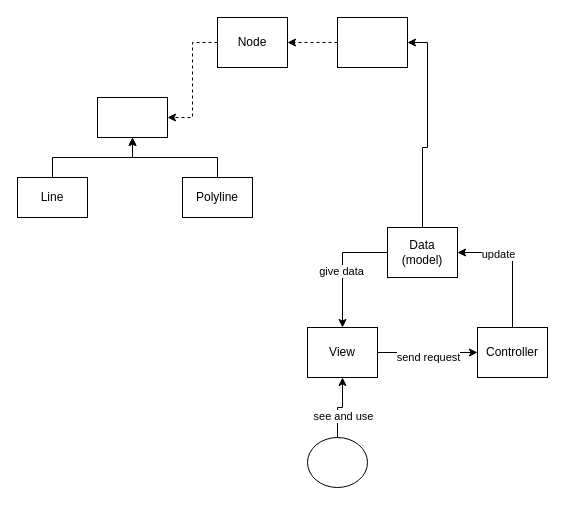
This 565x505 diagram has some shape labels left out. The shapes that lost their labels are listed below. From the top down, each one's centre as x and y in pixels, then its label:
point (372, 42): Scene
point (132, 117): Object
point (337, 462): user
